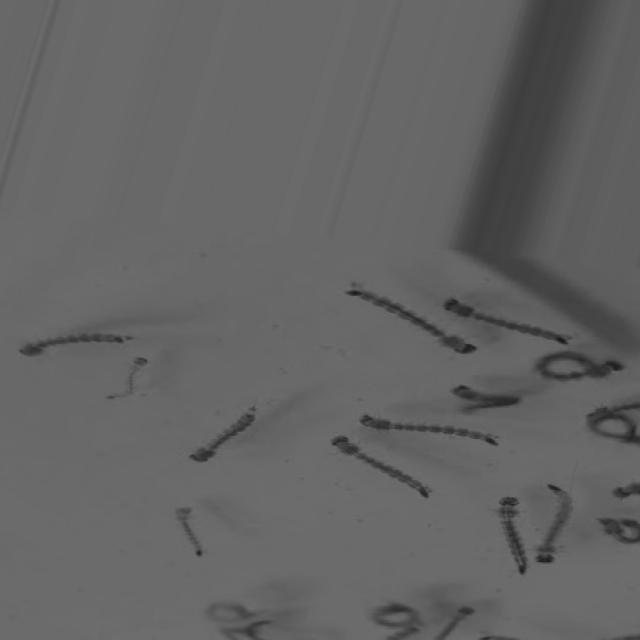larvas: (346, 279, 477, 362), (331, 430, 434, 505), (444, 291, 572, 350), (359, 412, 499, 451), (191, 407, 255, 465), (538, 486, 573, 564), (536, 349, 620, 380), (24, 330, 126, 355), (453, 382, 518, 412), (500, 495, 524, 573), (585, 395, 640, 425), (109, 356, 146, 400), (430, 603, 474, 640), (589, 414, 640, 442), (599, 514, 640, 548), (176, 507, 202, 559), (376, 601, 420, 628), (207, 602, 251, 625), (230, 619, 271, 640), (614, 484, 640, 500), (388, 627, 417, 640)
